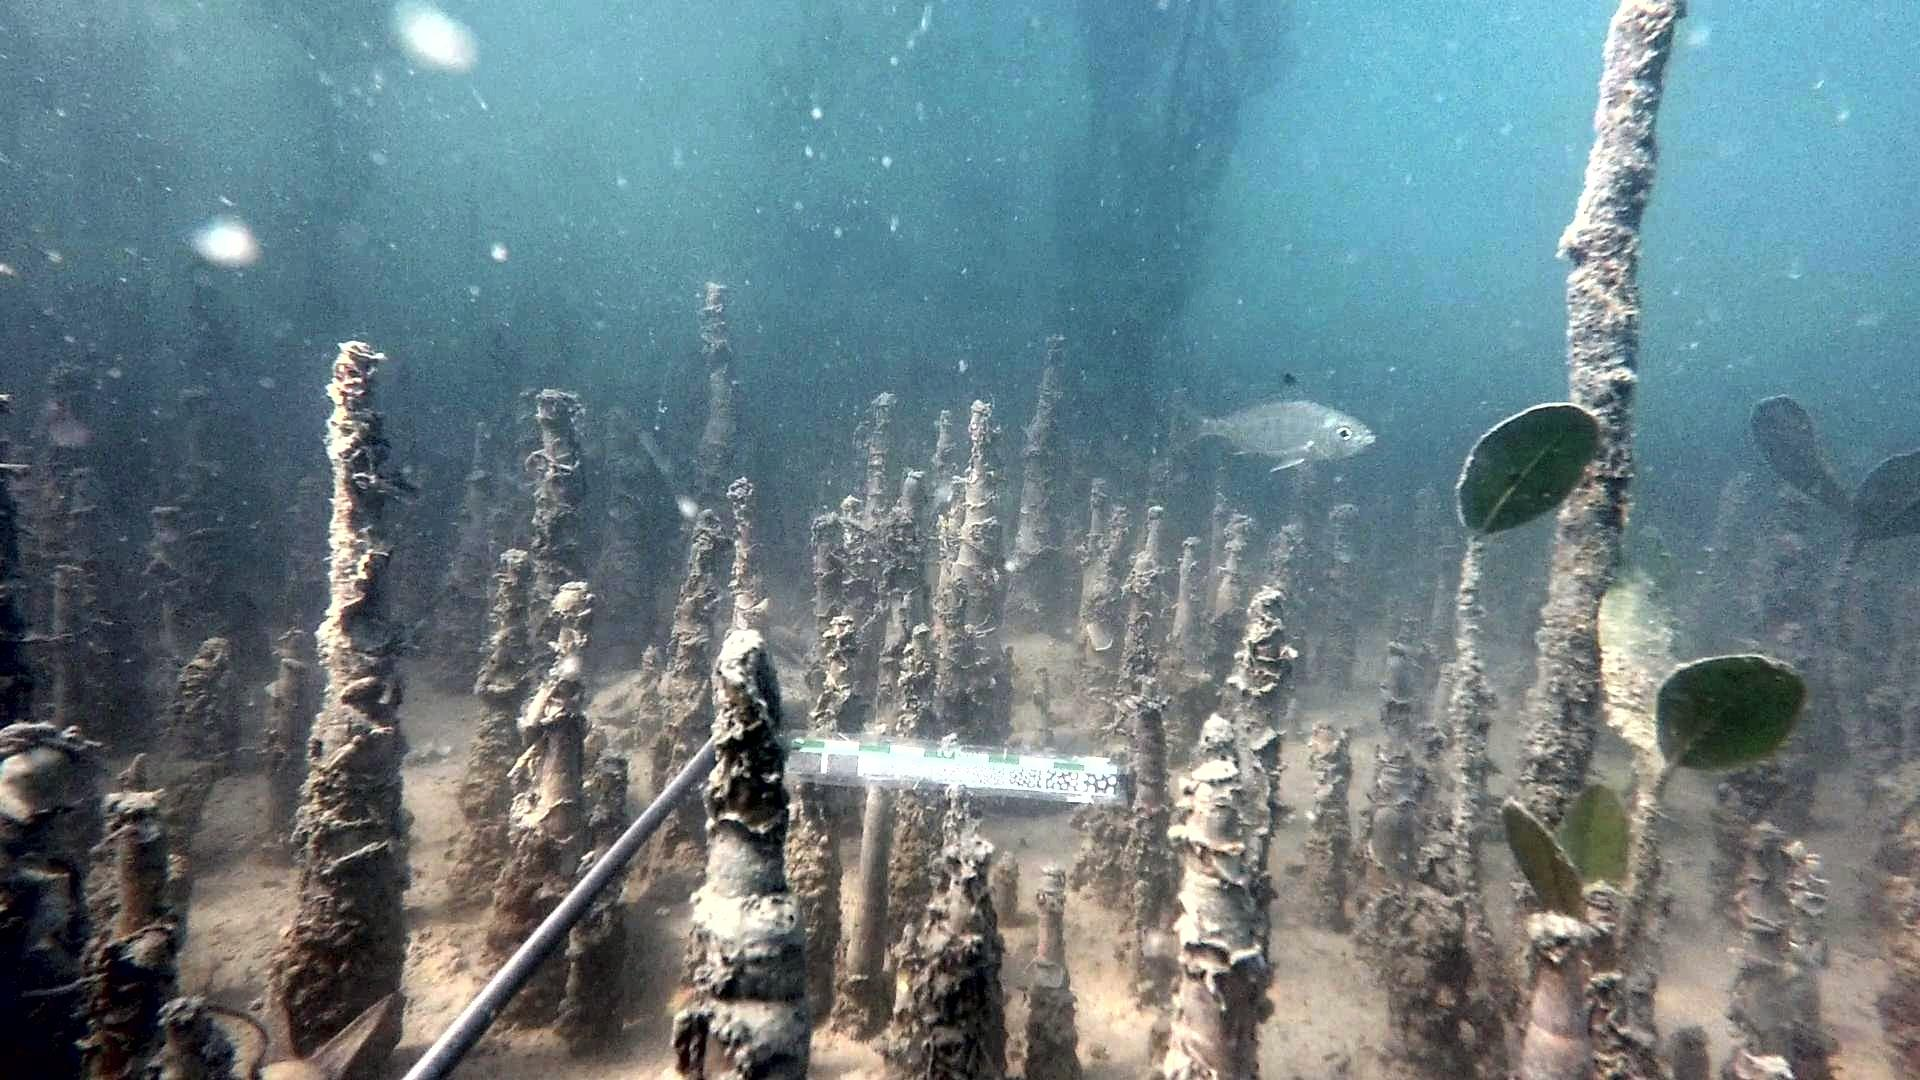gerres: (1168, 374, 1378, 475)
